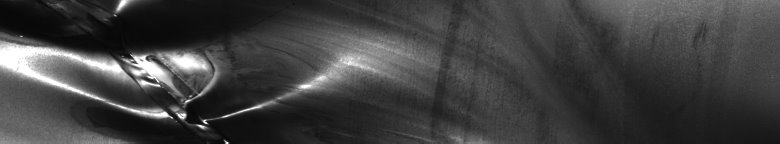ke: (4, 4, 375, 136)
